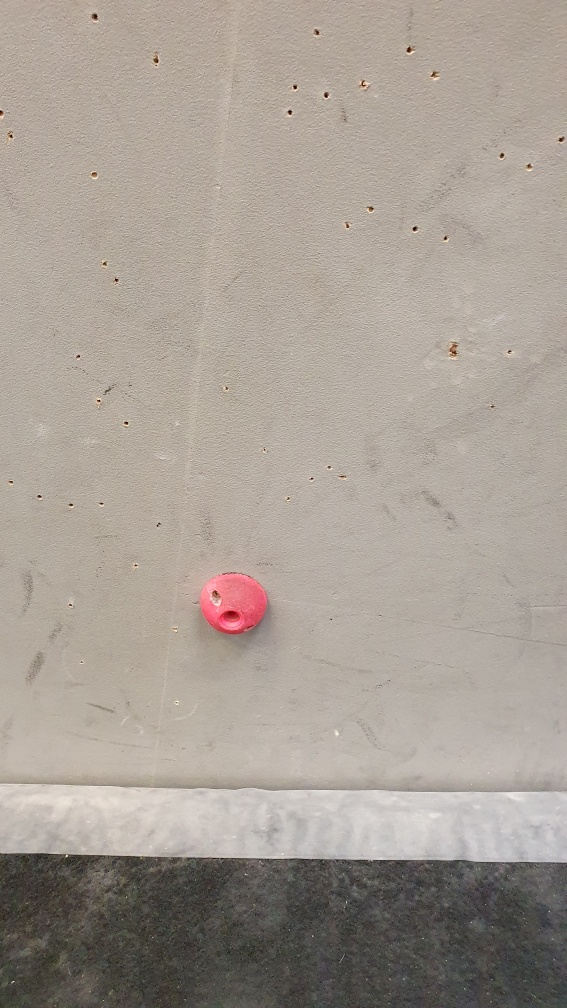Sloper: (192, 563, 272, 644)
